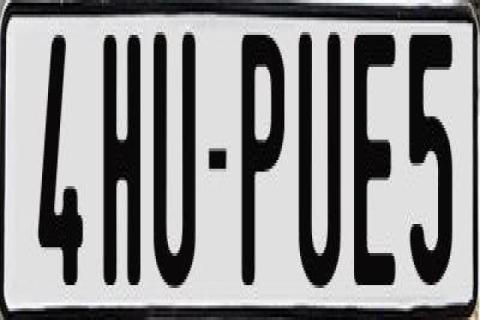0: (38, 32, 87, 282), (406, 29, 450, 288)
E: (352, 32, 400, 288)
H: (100, 29, 140, 294)
P: (241, 26, 292, 276)
U: (152, 29, 199, 291), (296, 32, 340, 294)
